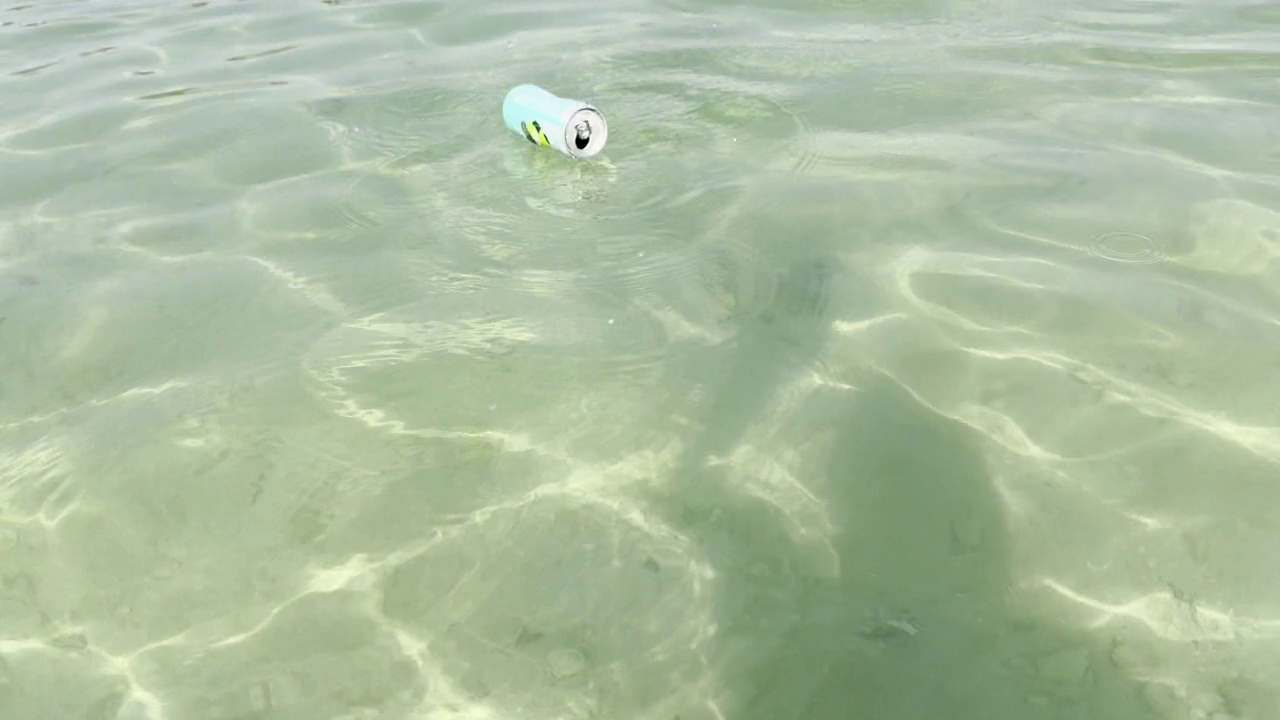debris: (493, 78, 617, 167)
